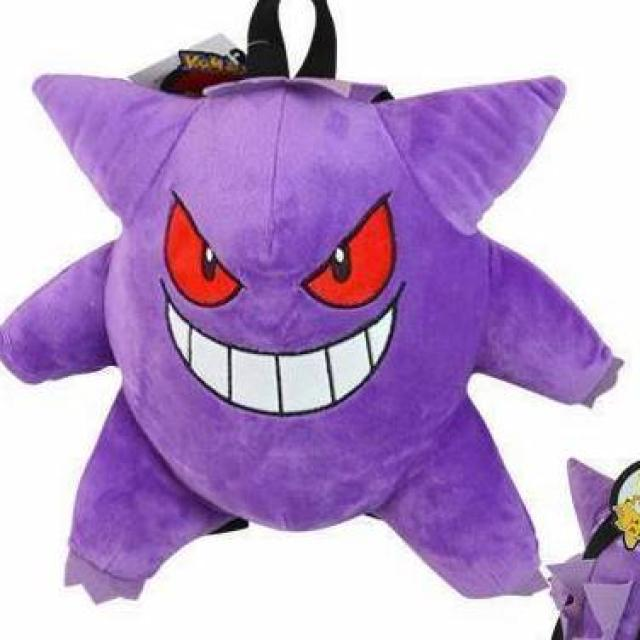Gengar: (0, 50, 600, 613)
